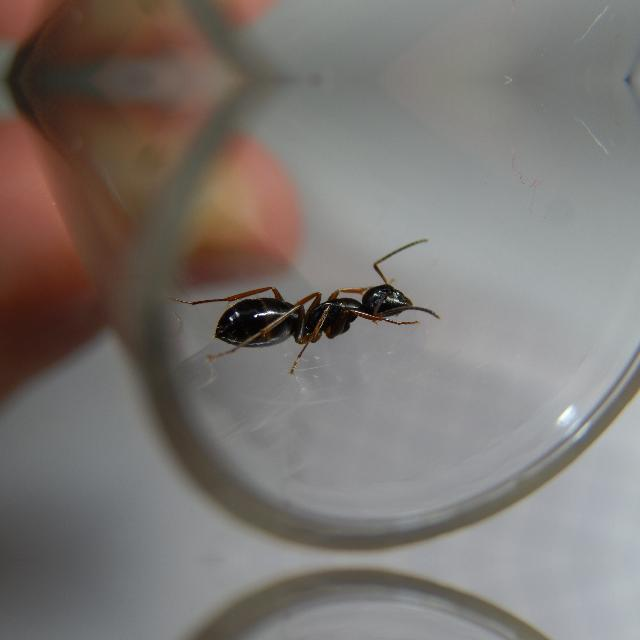Camponotus: (189, 252, 435, 364)
